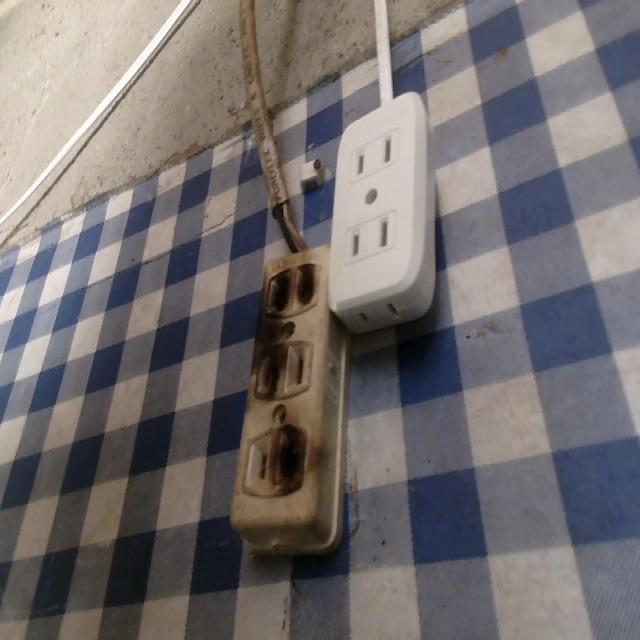-: (258, 260, 328, 317), (271, 424, 318, 503), (249, 337, 289, 400)
